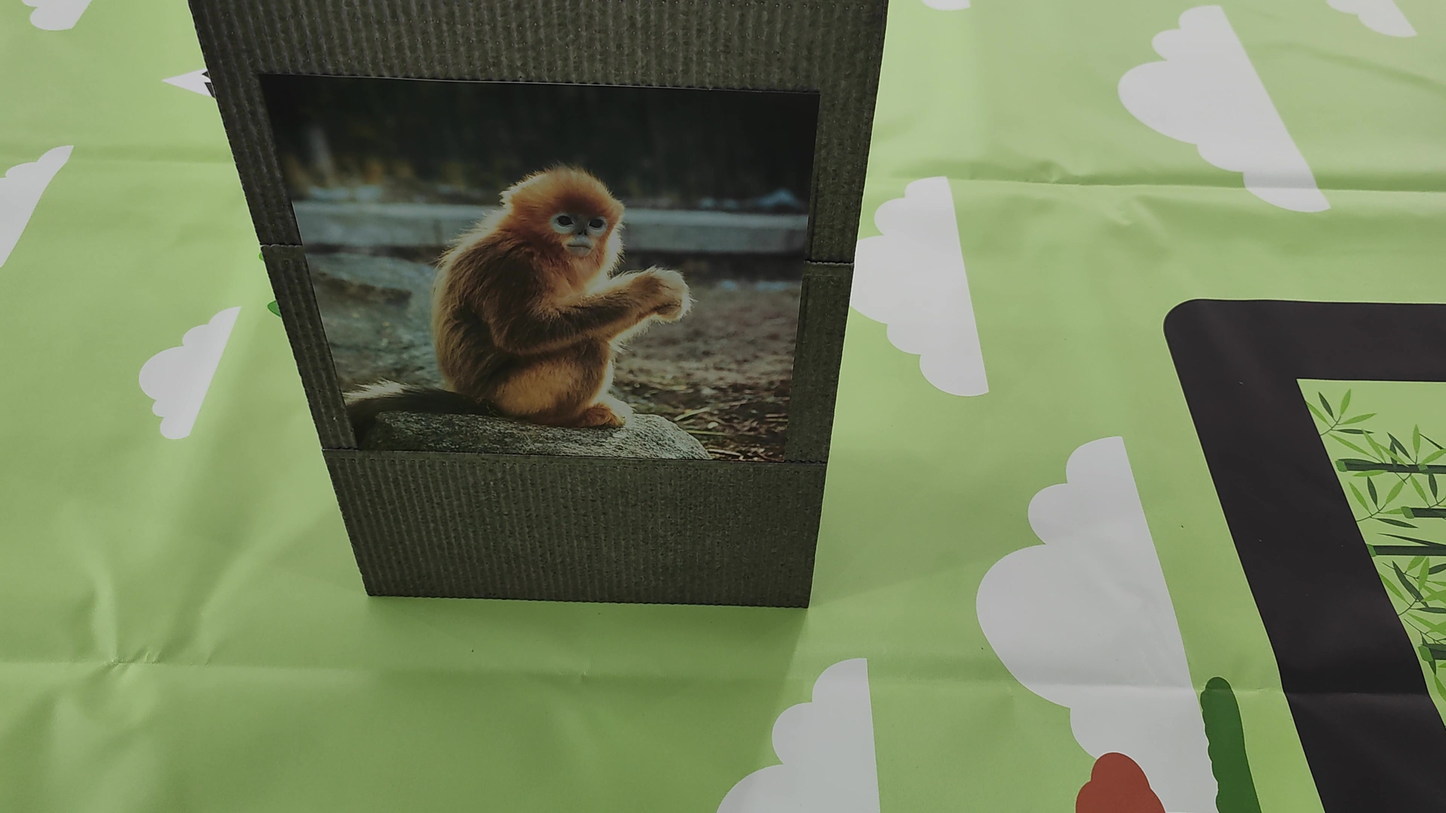monkey: (371, 100, 751, 451)
